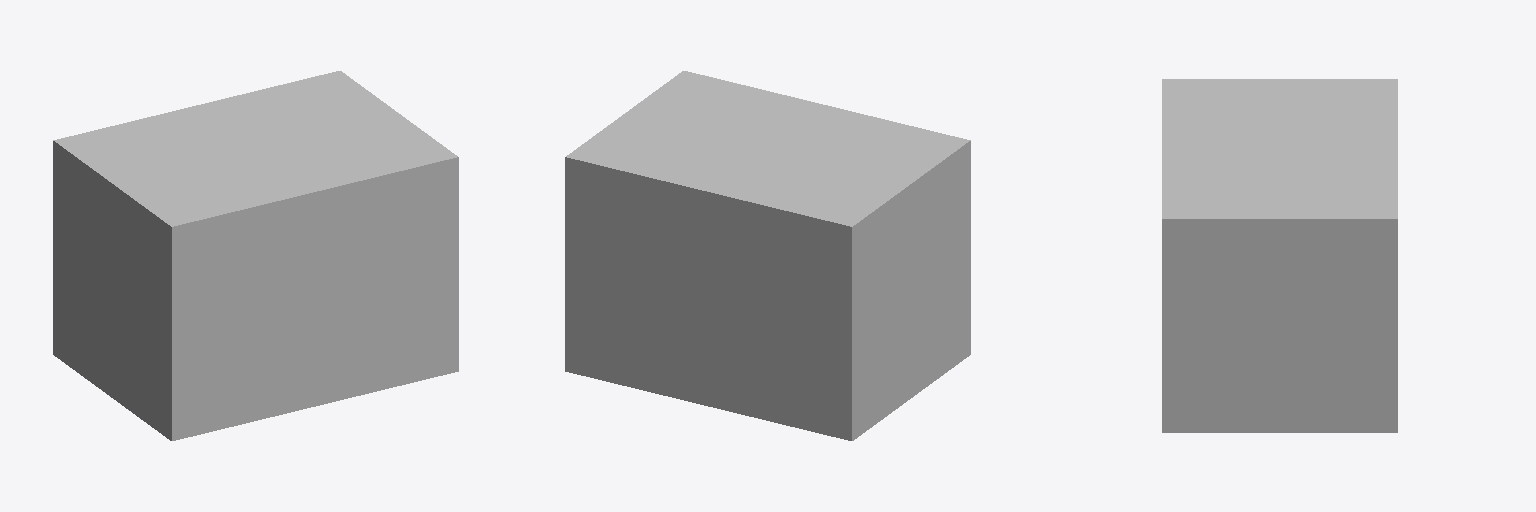
The model's file is door_mid_top.obj.
3 views of the same model, side by side, from view 1: azimuth 30°, elevation 25°; view 2: azimuth 150°, elevation 25°; view 3: azimuth 270°, elevation 25° (orthographic).
Visible parts, largest first — view 1: Cube.012_Cube.007; view 2: Cube.012_Cube.007; view 3: Cube.012_Cube.007.
Part boxes in pixels (left/top/right/bottom): Cube.012_Cube.007: left=53, top=71, right=458, bottom=440; Cube.012_Cube.007: left=565, top=71, right=970, bottom=440; Cube.012_Cube.007: left=1162, top=79, right=1397, bottom=432.
Size of the model in its own units: 1.4 by 1 by 1.